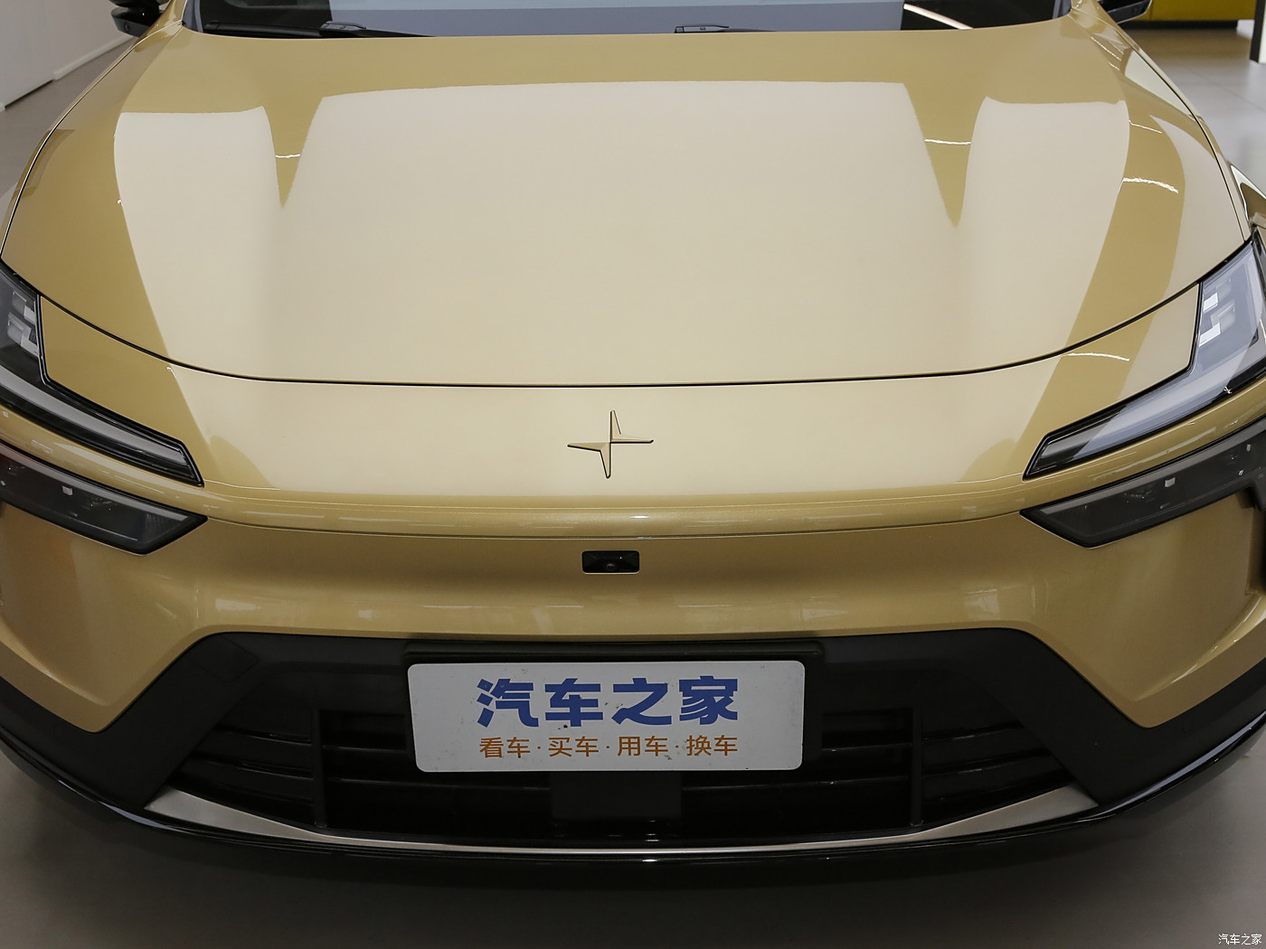Polestar: (568, 410, 653, 478)
